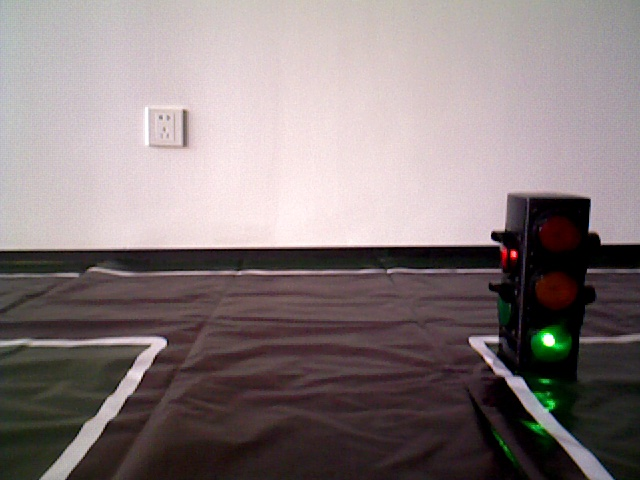green: (504, 196, 583, 369)
